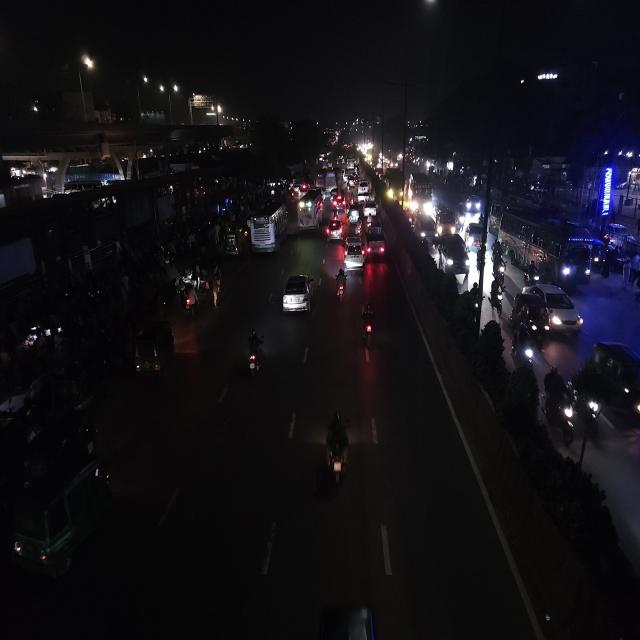bus: (498, 207, 594, 285), (245, 200, 291, 257), (296, 187, 324, 233), (408, 171, 432, 219), (325, 172, 338, 194), (314, 170, 324, 190)
car: (545, 281, 584, 338), (280, 271, 314, 322), (436, 232, 472, 280), (342, 231, 365, 276), (365, 221, 387, 263), (465, 220, 489, 248), (326, 216, 344, 242), (466, 192, 481, 216), (362, 198, 378, 218), (330, 188, 346, 208)
cng: (130, 316, 176, 388), (223, 230, 239, 259), (348, 203, 360, 226)
motorcycle: (542, 364, 578, 442), (322, 407, 352, 494), (244, 327, 265, 383), (512, 322, 537, 369), (359, 300, 377, 355), (179, 278, 200, 320), (488, 271, 506, 316), (333, 267, 347, 306), (493, 245, 508, 280), (522, 260, 541, 286), (475, 243, 487, 278)
pedestrian: (208, 276, 221, 316)
pickup_van: (365, 220, 387, 263), (436, 206, 458, 236)
